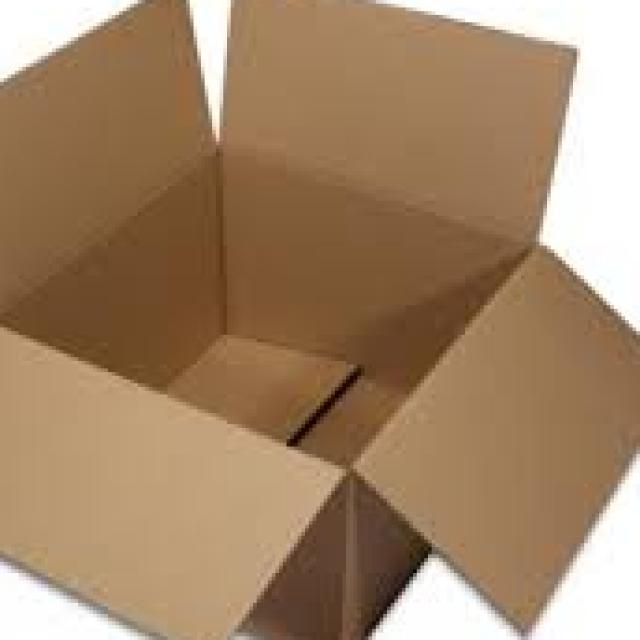organic: (6, 4, 638, 636)
